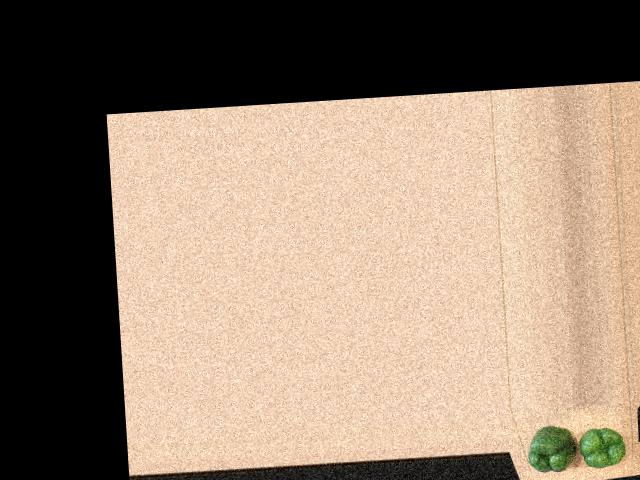bell_pepper: (576, 420, 625, 470)
